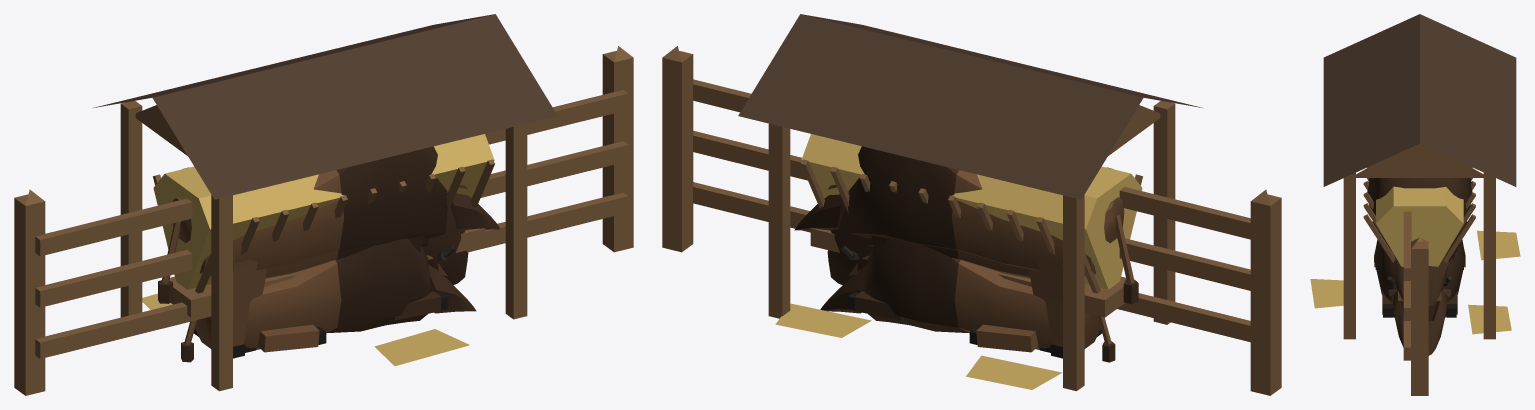
File: wisents.glb
3 views of the same model, side by side, from view 1: azimuth 30°, elevation 25°; view 2: azimuth 150°, elevation 25°; view 3: azimuth 270°, elevation 25° (orthographic). The views are drawn at different scales.
Visible parts, largest first — view 1: HayRack, PaddockFence, WisentBull, WisentCowLying, WisentCow; view 2: HayRack, PaddockFence, WisentBull, WisentCowLying, WisentCow; view 3: HayRack, PaddockFence, WisentCowLying, WisentBull, WisentCow.
Part boxes in pixels (x1,y1,x2,y2): HayRack: [92, 14, 557, 391]; PaddockFence: [14, 46, 633, 395]; WisentBull: [158, 146, 499, 358]; WisentCowLying: [181, 238, 476, 362]; WisentCow: [245, 207, 468, 352]; HayRack: [738, 14, 1203, 391]; PaddockFence: [662, 46, 1281, 395]; WisentBull: [794, 146, 1138, 358]; WisentCowLying: [820, 238, 1115, 362]; WisentCow: [827, 207, 1050, 352]; HayRack: [1310, 14, 1520, 339]; PaddockFence: [1403, 211, 1428, 395]; WisentCowLying: [1374, 239, 1465, 355]; WisentBull: [1367, 165, 1472, 306]; WisentCow: [1396, 285, 1443, 321].
Size of the model in its own units: 6.2 by 2.81 by 2.4.
